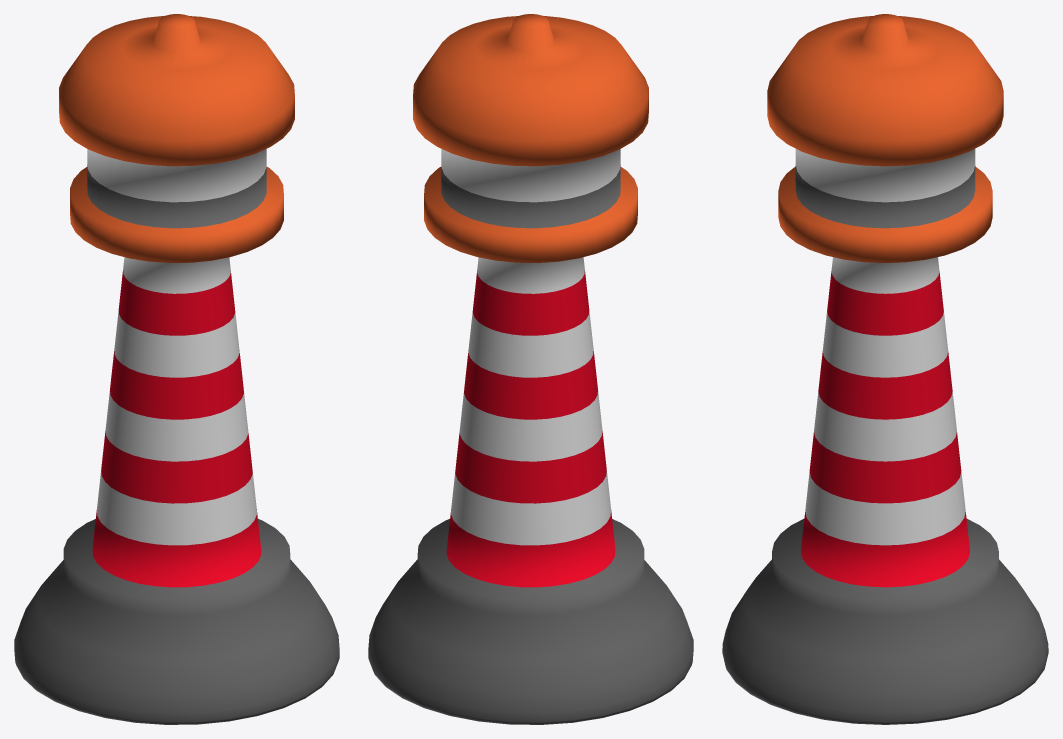
File: Lighthouse.fbx
3 renders of one model, left to right at view 1: azimuth 30°, elevation 25°; view 2: azimuth 150°, elevation 25°; view 3: azimuth 270°, elevation 25°, orthographic.
Visible parts, largest first — view 1: Sphere; view 2: Sphere; view 3: Sphere.
Part boxes in pixels (left/top/right/bottom): Sphere: left=14, top=14, right=339, bottom=724; Sphere: left=368, top=14, right=693, bottom=724; Sphere: left=722, top=14, right=1048, bottom=724.
Size of the model in its own units: 272 by 585 by 272.
